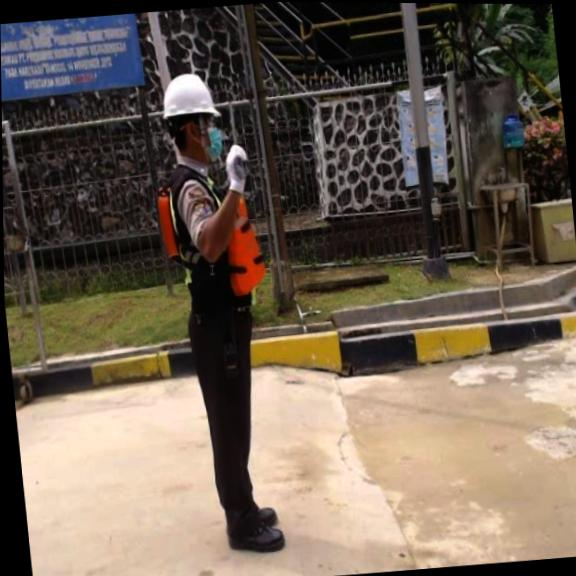safety_vest: (153, 175, 271, 306)
